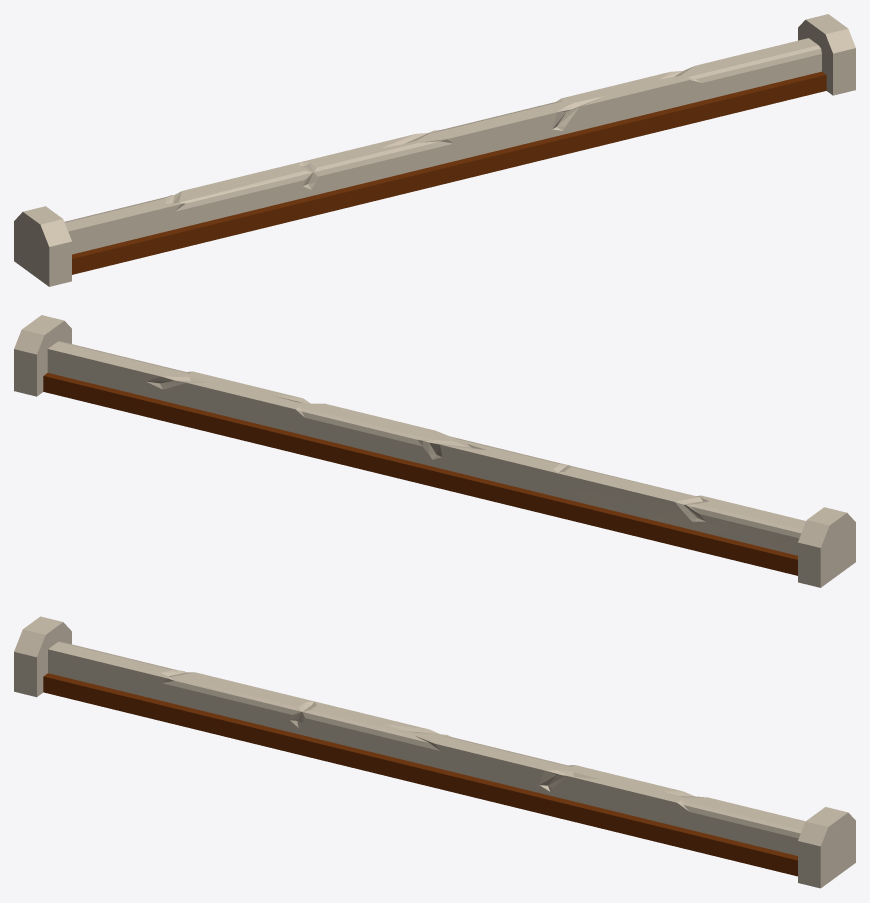
File: RAIL.FBX
The picture shows the model from 3 angles, top to bottom: view 1: azimuth 30°, elevation 25°; view 2: azimuth 150°, elevation 25°; view 3: azimuth 330°, elevation 25°; orthographic projection.
Parts seen in each view (by area): view 1: Box218, Box217, Box216, Box219; view 2: Box218, Box217, Box216, Box219; view 3: Box218, Box217, Box219, Box216.
Part boxes in pixels (x1=…): Box218: x1=64, y1=38, x2=821, y2=254; Box217: x1=72, y1=71, x2=826, y2=274; Box216: x1=14, y1=206, x2=71, y2=286; Box219: x1=798, y1=14, x2=855, y2=95; Box218: x1=47, y1=341, x2=805, y2=555; Box217: x1=43, y1=373, x2=797, y2=575; Box216: x1=798, y1=507, x2=855, y2=587; Box219: x1=14, y1=315, x2=71, y2=396; Box218: x1=48, y1=641, x2=805, y2=855; Box217: x1=43, y1=673, x2=797, y2=876; Box219: x1=798, y1=807, x2=855, y2=888; Box216: x1=14, y1=616, x2=71, y2=697.
Size of the model in its own units: 416 by 27.56 by 31.5.
